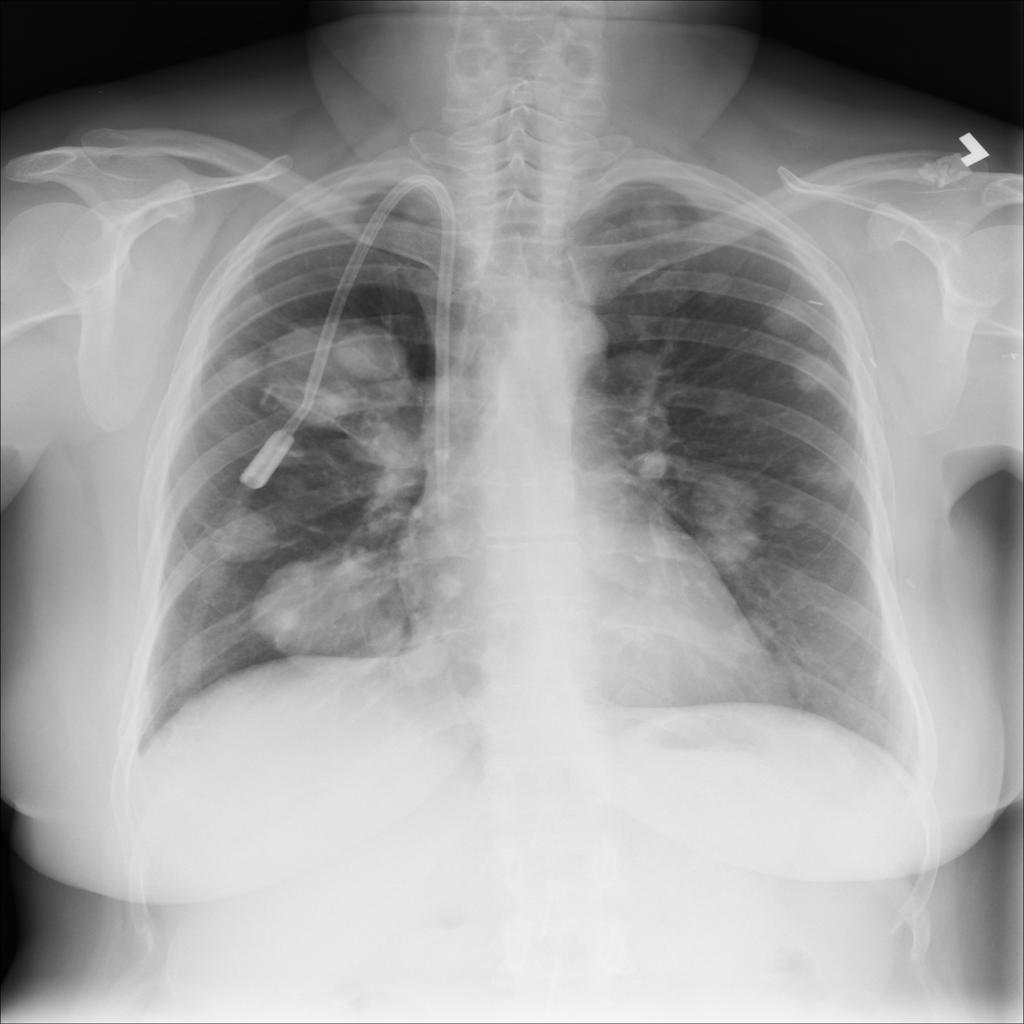nodule: (262, 557, 418, 699), (280, 285, 416, 433), (331, 316, 420, 389), (686, 474, 764, 555), (198, 503, 279, 579), (346, 411, 429, 479), (384, 626, 460, 695), (355, 604, 425, 672), (776, 341, 850, 405), (204, 339, 275, 405), (788, 444, 866, 504), (621, 184, 696, 245), (244, 590, 316, 653), (713, 605, 785, 667), (752, 283, 828, 340), (762, 491, 821, 536), (416, 559, 468, 608), (686, 264, 743, 307), (703, 379, 755, 424), (626, 443, 678, 488)
